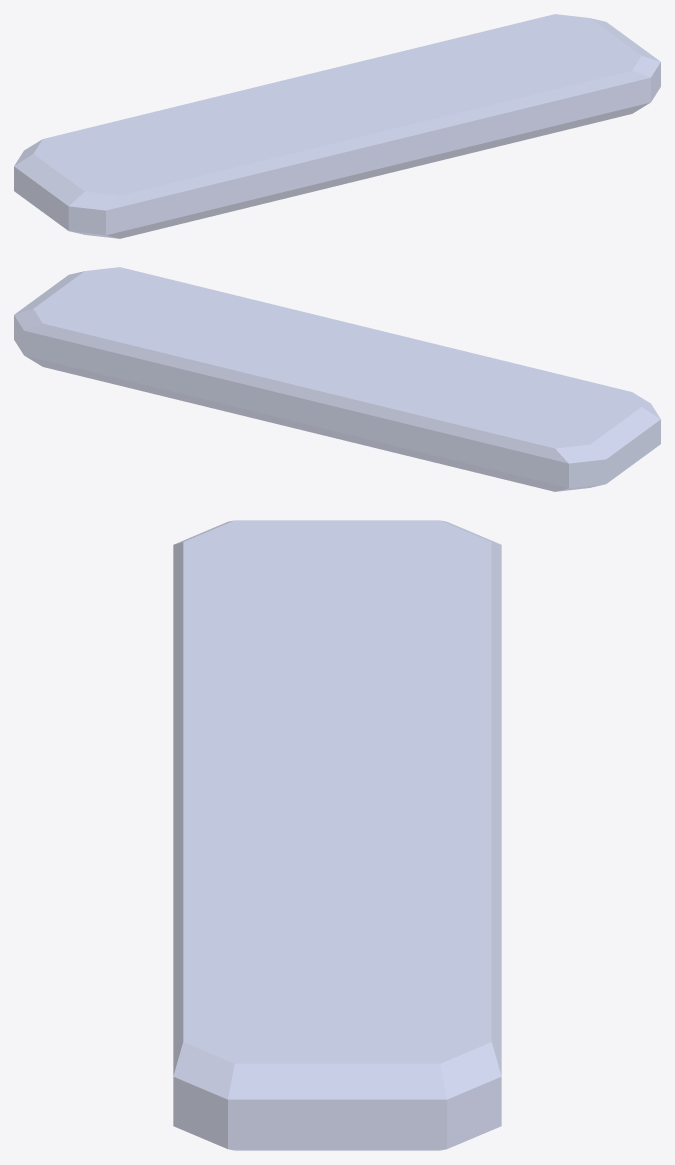
Rendered from kyanite.glb.
3 renders of one model, top to bottom at view 1: azimuth 30°, elevation 25°; view 2: azimuth 150°, elevation 25°; view 3: azimuth 270°, elevation 25°, orthographic. The views are drawn at different scales.
Parts seen in each view (by area): view 1: kyanite; view 2: kyanite; view 3: kyanite.
Part boxes in pixels (x1,y1,x2,y2): kyanite: [14, 14, 660, 238]; kyanite: [14, 267, 660, 491]; kyanite: [173, 520, 501, 1150].
Size of the model in its own units: 0.25 by 0.0175 by 0.06.
